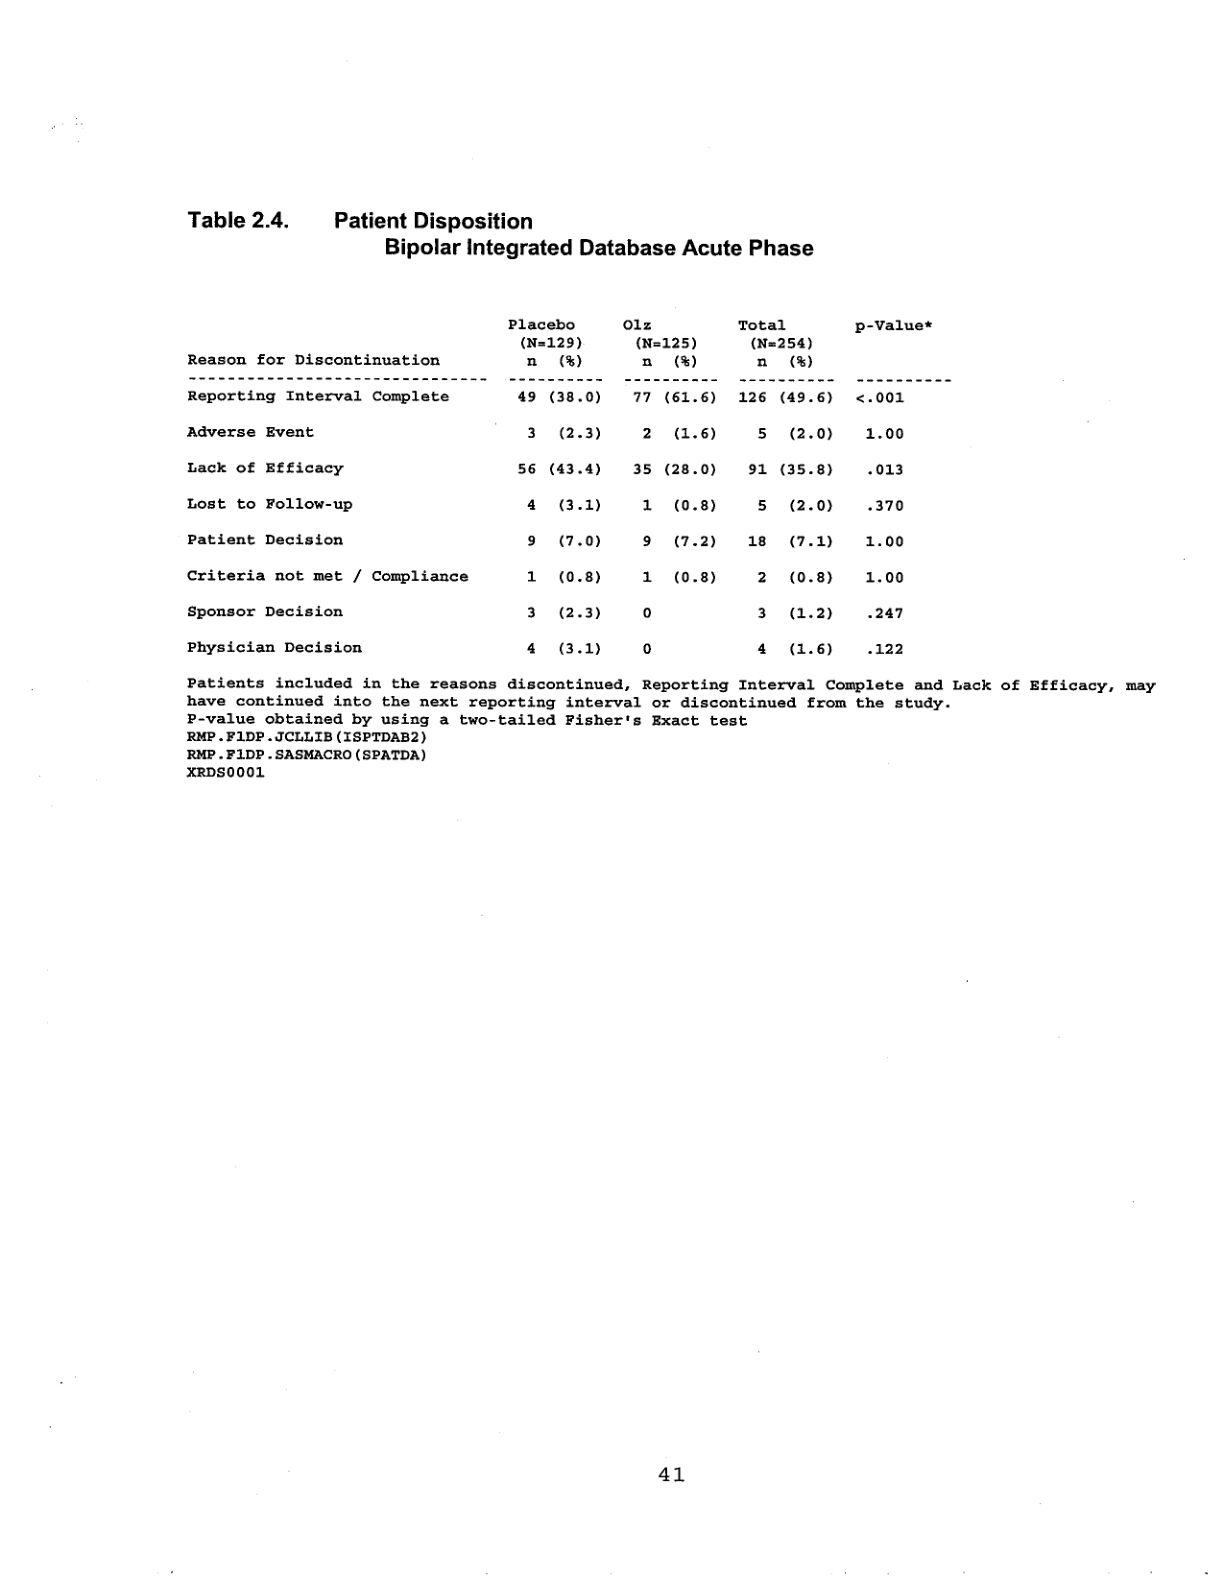nolines: (182, 320, 952, 661)
